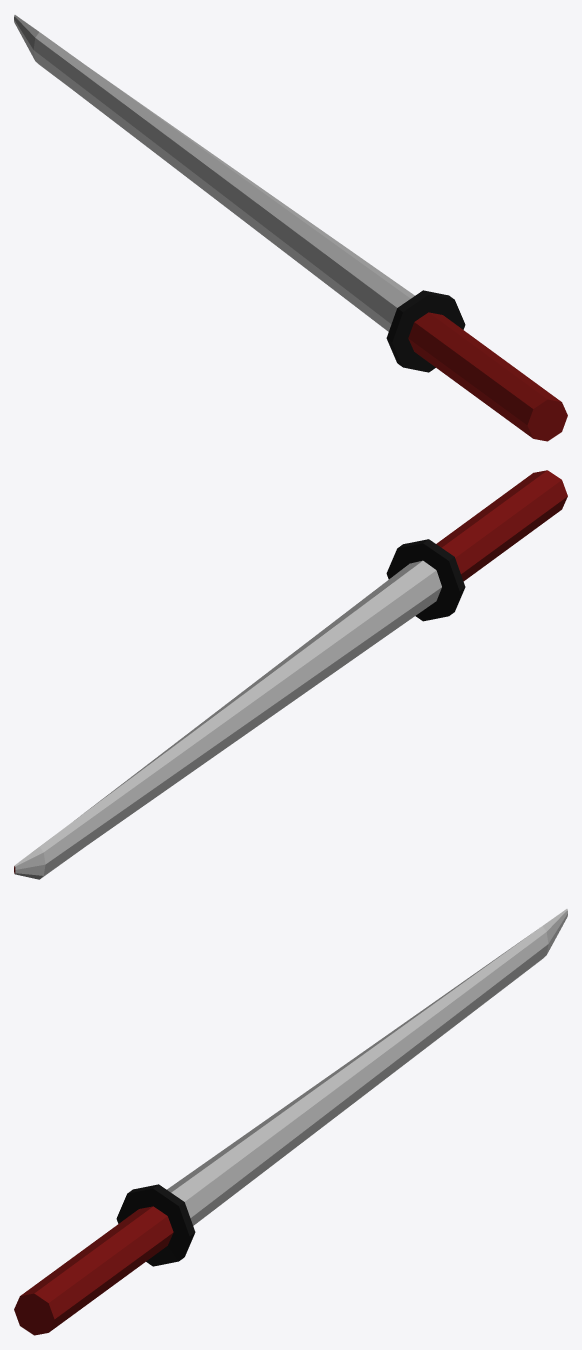
Rendered from katana.fbx.
3 views of the same model, one above another, from view 1: azimuth 30°, elevation 25°; view 2: azimuth 150°, elevation 25°; view 3: azimuth 330°, elevation 25° (orthographic).
Parts seen in each view (by area): view 1: Cylinder; view 2: Cylinder; view 3: Cylinder.
Part boxes in pixels (left/top/right/bottom): Cylinder: left=14, top=15, right=567, bottom=441; Cylinder: left=14, top=470, right=567, bottom=879; Cylinder: left=14, top=909, right=567, bottom=1335.
Bounding box in the file's own units: 67.68 × 68.98 × 854.
